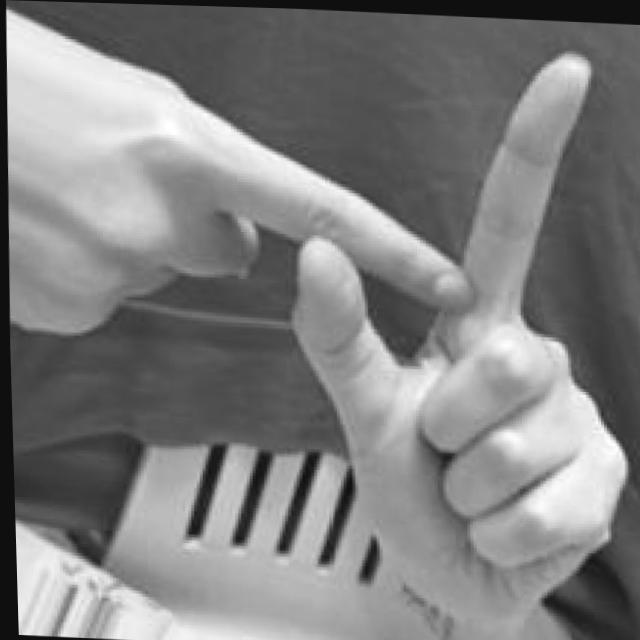J: (0, 14, 640, 640)
